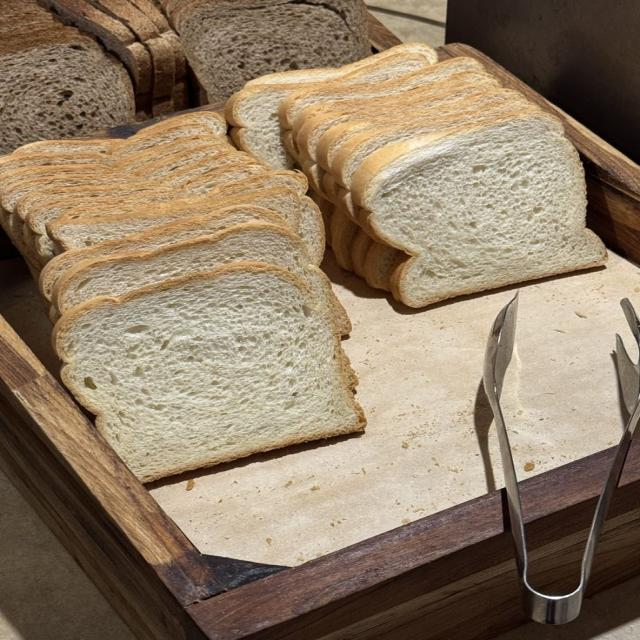sliced_bread: (54, 262, 365, 480), (330, 89, 605, 305), (54, 222, 350, 333), (41, 201, 293, 306), (225, 44, 437, 168), (50, 184, 322, 263), (293, 61, 500, 162), (162, 0, 368, 101), (0, 29, 133, 153)
